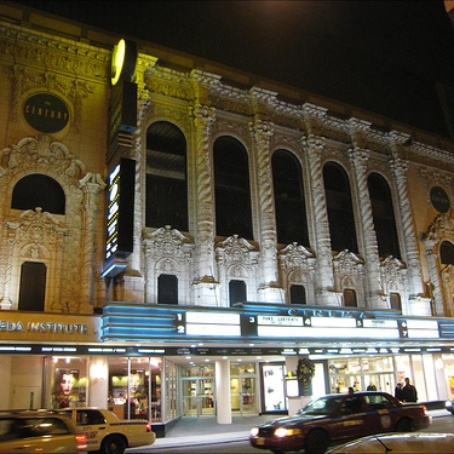building: (1, 29, 454, 406)
car: (229, 386, 438, 442), (1, 402, 169, 454)
